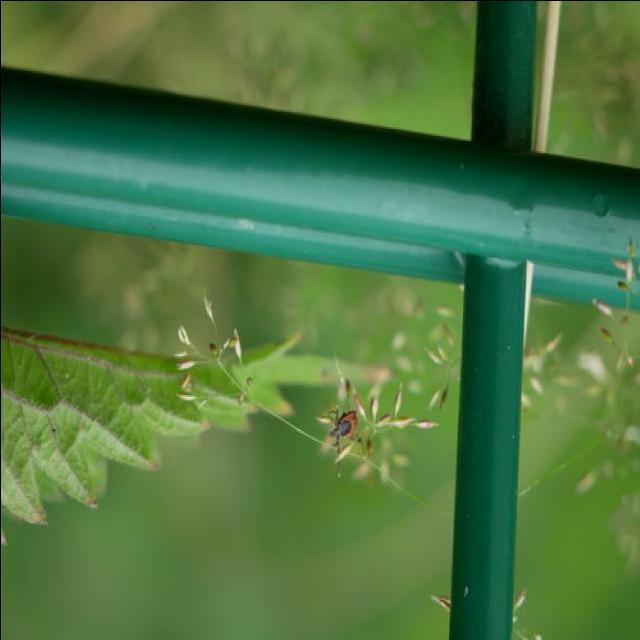Ixodes Ricinus-F: (314, 381, 431, 476)
